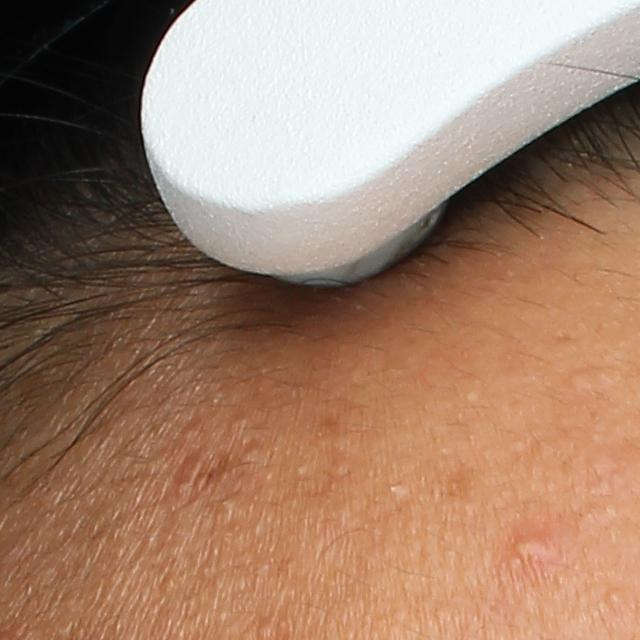comedo: (565, 365, 594, 394), (602, 586, 625, 609), (385, 480, 406, 499)
